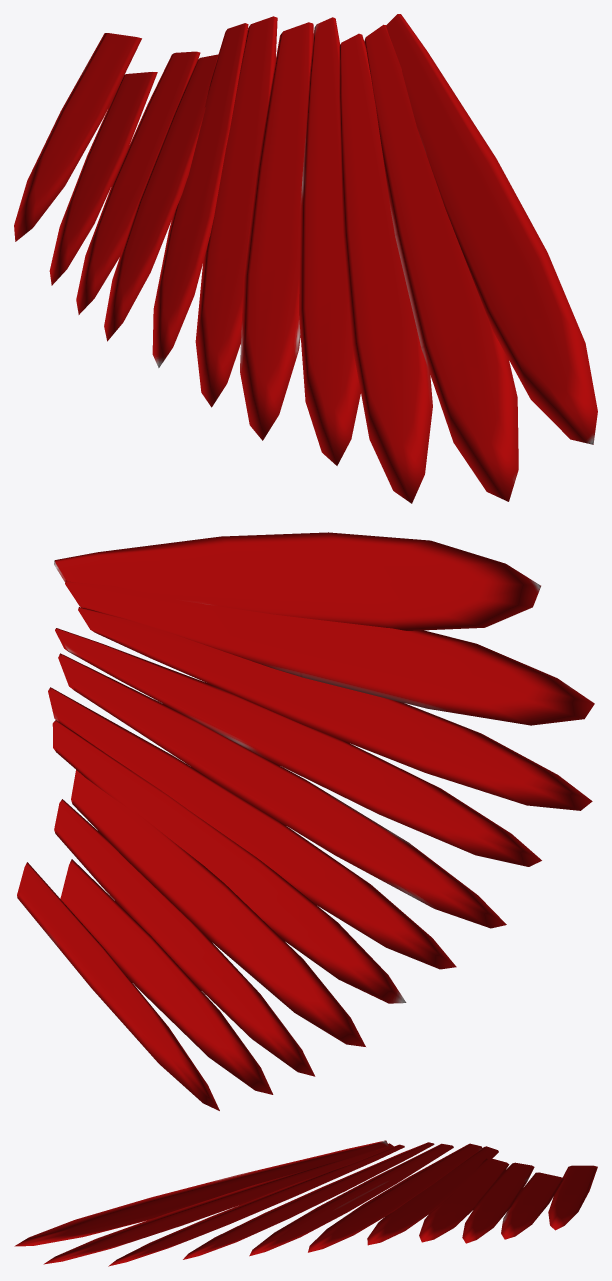
File: relojAlaDerPajaro.obj
The picture shows the model from 3 angles, top to bottom: view 1: azimuth 30°, elevation 25°; view 2: azimuth 150°, elevation 25°; view 3: azimuth 270°, elevation 25°; orthographic projection. The views are drawn at different scales.
Parts seen in each view (by area): view 1: polySurface83; view 2: polySurface83; view 3: polySurface83.
Boxes of the visible parts, <box> form: polySurface83: <box>14,14,597,503</box>; polySurface83: <box>17,532,594,1110</box>; polySurface83: <box>14,1140,597,1266</box>.
Bounding box in the file's own units: 3.32 × 3.5 × 9.6.
1 material, 1 textured.
